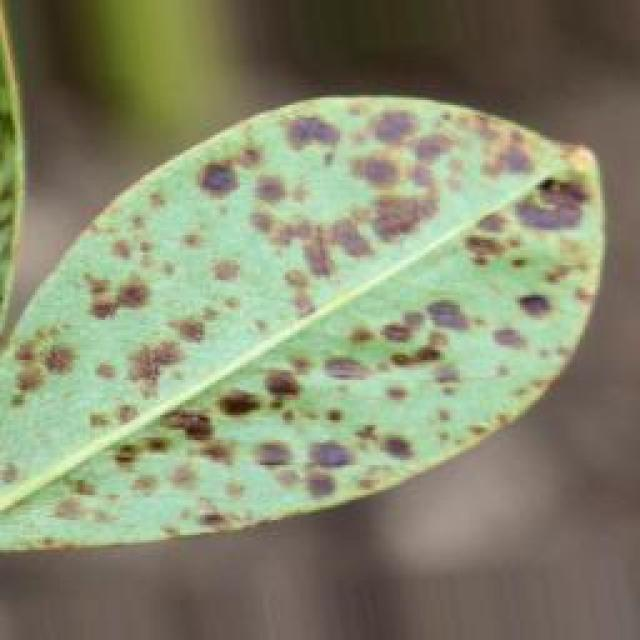Whitefly: (0, 52, 640, 546)
